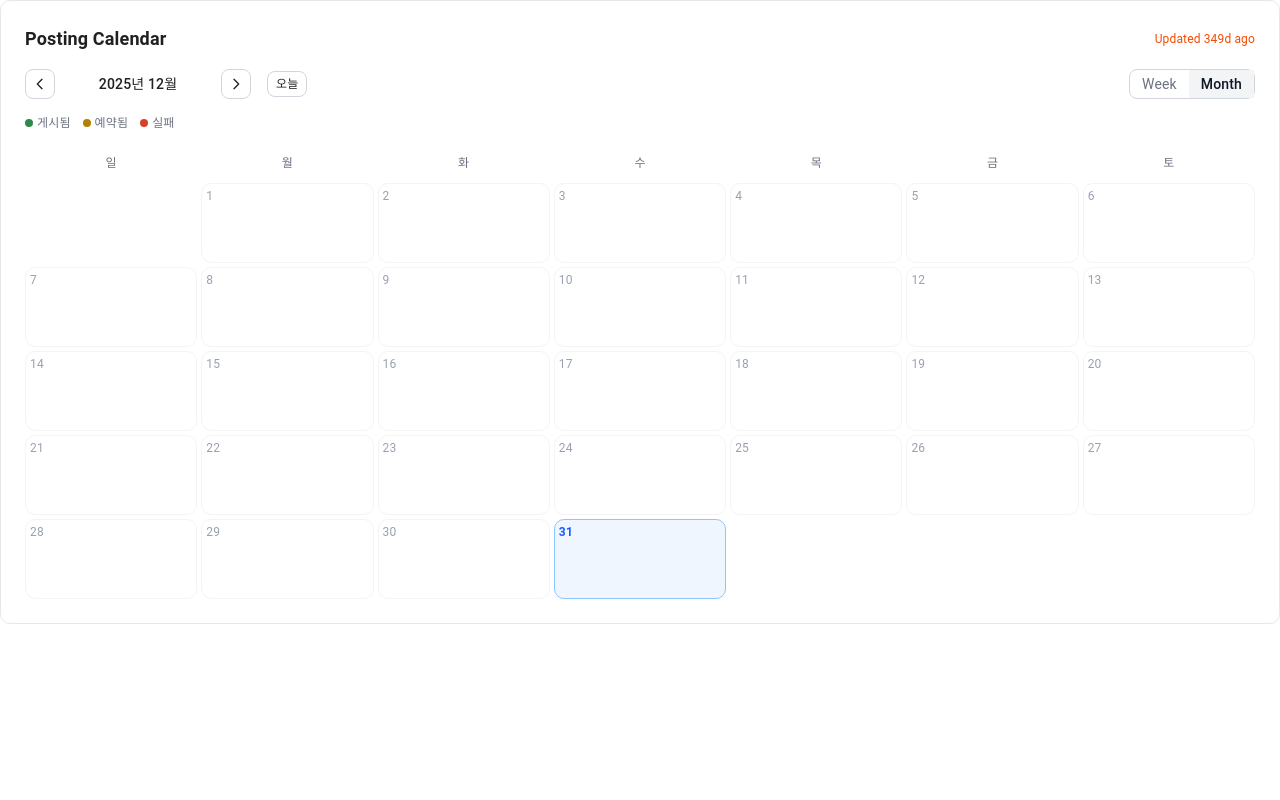
Test: PostingCalendar Component › FR-007: Status Indicators › should show published status indicator (green)
Note: Switch to week view to see status badges
Click the button "Week". click: click(1159, 84)
box: [1130,70,1189,98]
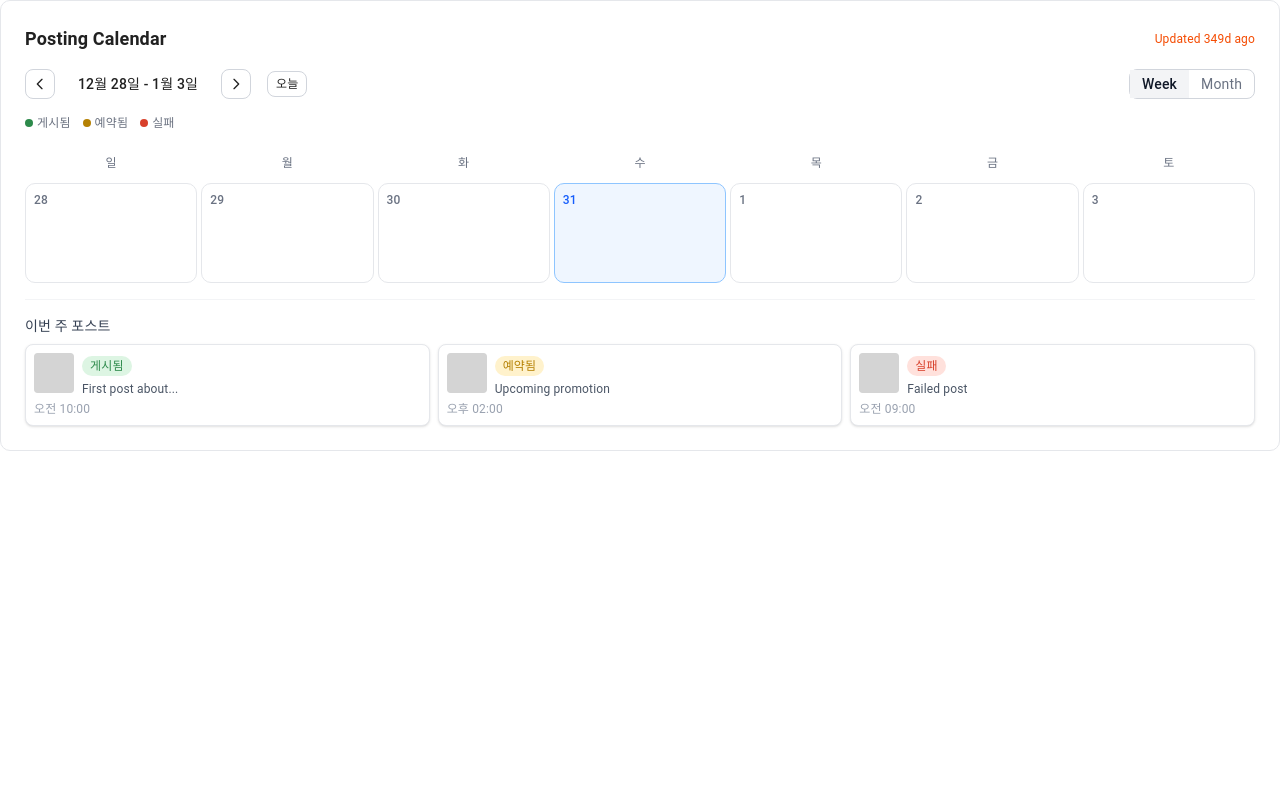
Check: the text with test id "status-published" is shown, box [82,356,132,376]
